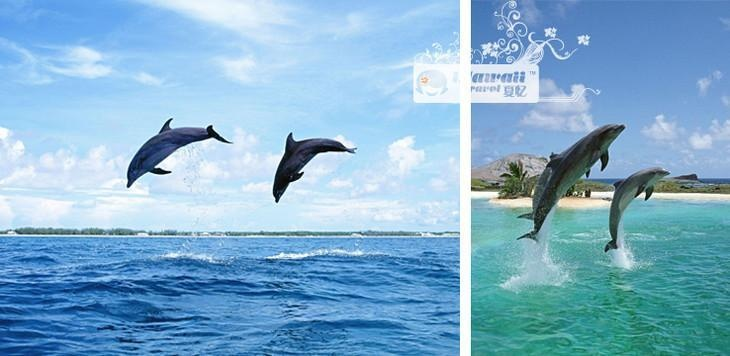fish: (512, 122, 628, 243), (126, 114, 235, 190), (598, 168, 678, 257), (270, 129, 361, 207)
